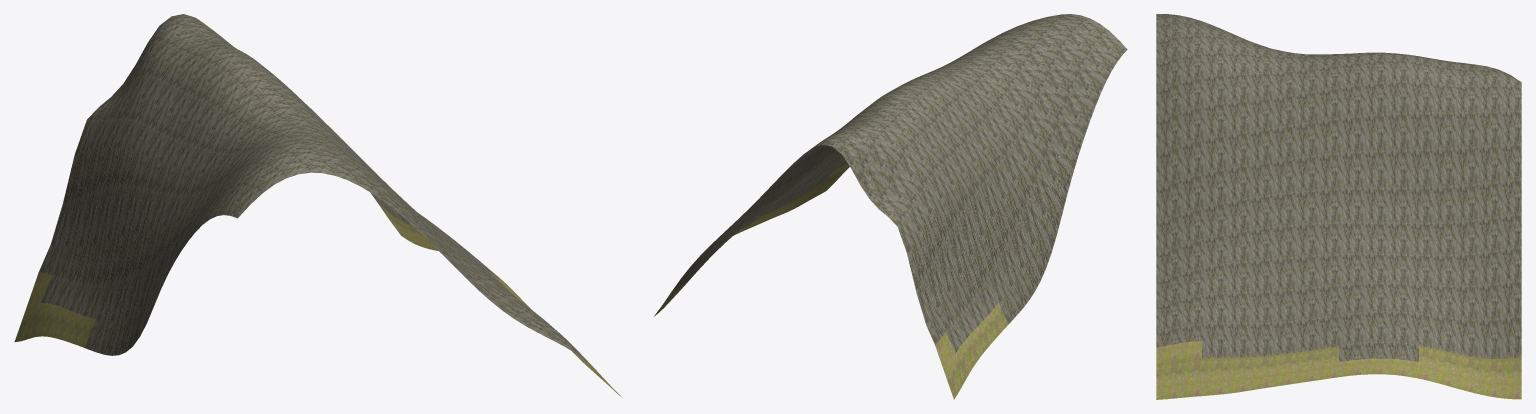
File: chunk_2_2.glb
3 renders of one model, left to right at view 1: azimuth 30°, elevation 25°; view 2: azimuth 150°, elevation 25°; view 3: azimuth 270°, elevation 25°, orthographic. The views are drawn at different scales.
Parts seen in each view (by area): view 1: chunk_2_2-col; view 2: chunk_2_2-col; view 3: chunk_2_2-col.
Boxes of the visible parts, x1,y1,x2,y2 form: chunk_2_2-col: (14, 14, 621, 397); chunk_2_2-col: (654, 14, 1127, 399); chunk_2_2-col: (1156, 14, 1521, 399).
Size of the model in its own units: 64 by 50.48 by 64.
Materials: 2 (2 with a texture image).
